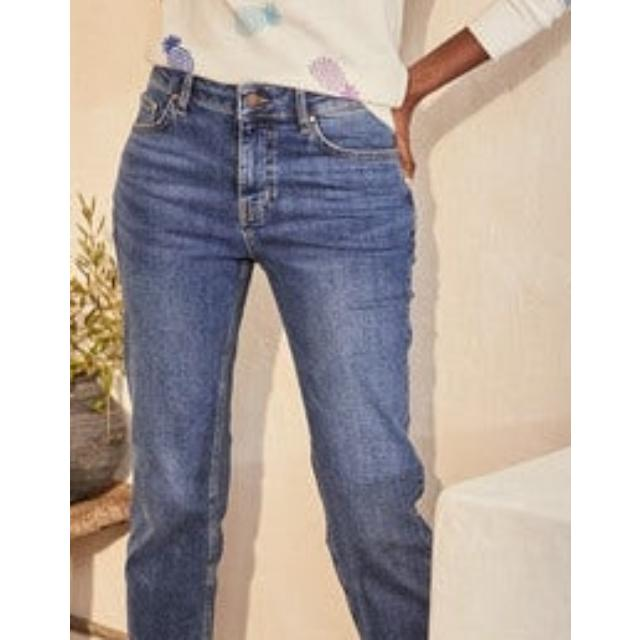cotton: (134, 0, 434, 74)
